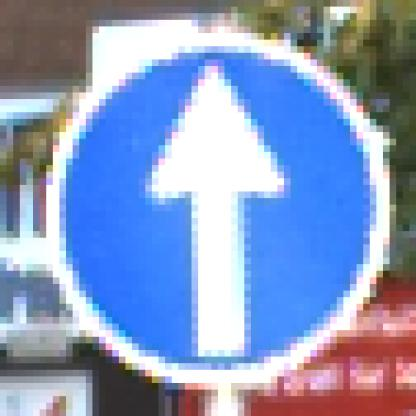AheadOnly: (41, 34, 384, 384)
